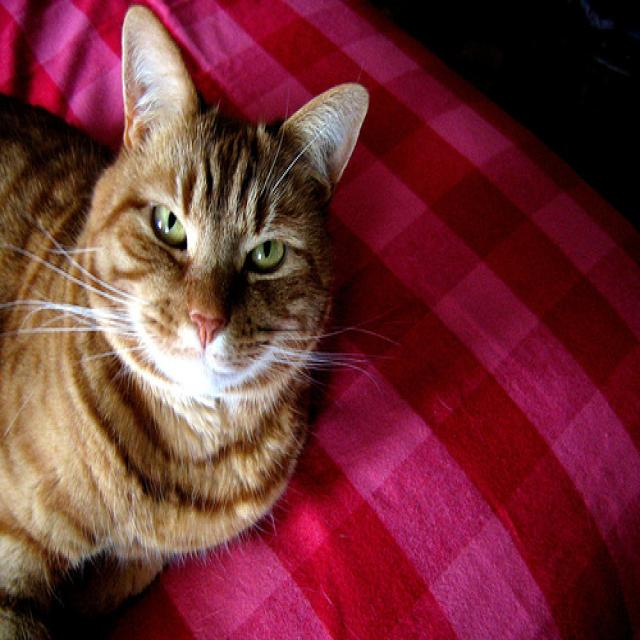left eye: (244, 234, 288, 275)
